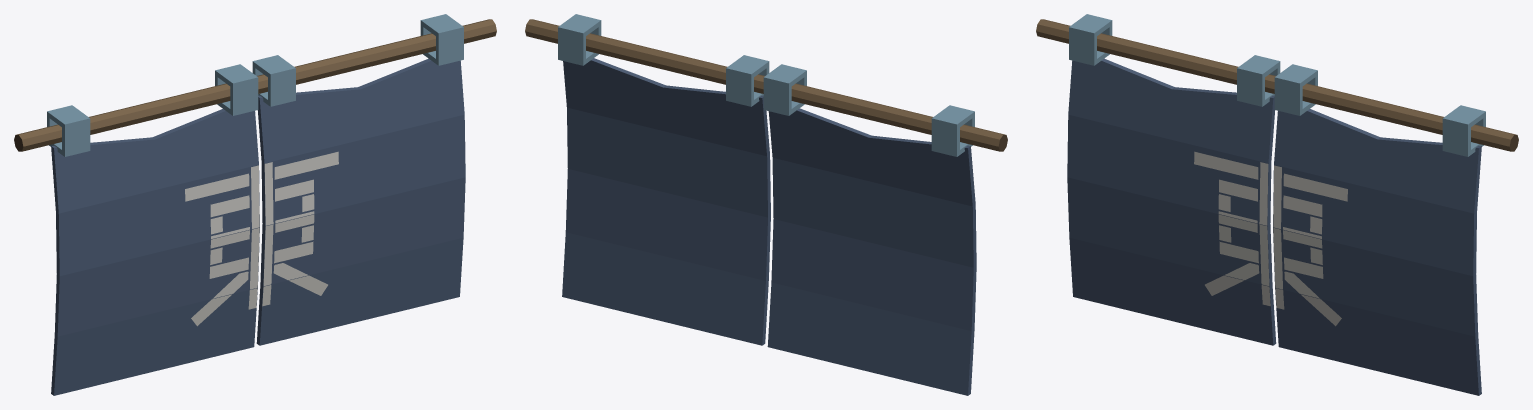
The model's file is noren.glb.
3 renders of one model, left to right at view 1: azimuth 30°, elevation 25°; view 2: azimuth 150°, elevation 25°; view 3: azimuth 330°, elevation 25°, orthographic.
Visible parts, largest first — view 1: panel-1-mesh, panel-2-mesh, noren-rod; view 2: panel-1-mesh, panel-2-mesh, noren-rod; view 3: panel-2-mesh, panel-1-mesh, noren-rod.
Part boxes in pixels (bbox=[...]): panel-1-mesh: bbox=[47, 64, 259, 395]; panel-2-mesh: bbox=[252, 14, 465, 345]; noren-rod: bbox=[14, 19, 496, 151]; panel-1-mesh: bbox=[763, 64, 976, 395]; panel-2-mesh: bbox=[558, 14, 770, 345]; noren-rod: bbox=[525, 19, 1007, 151]; panel-2-mesh: bbox=[1273, 64, 1485, 395]; panel-1-mesh: bbox=[1067, 14, 1280, 345]; noren-rod: bbox=[1036, 19, 1518, 151].
Bounding box in the file's own units: 1.4 × 0.78 × 0.092.
